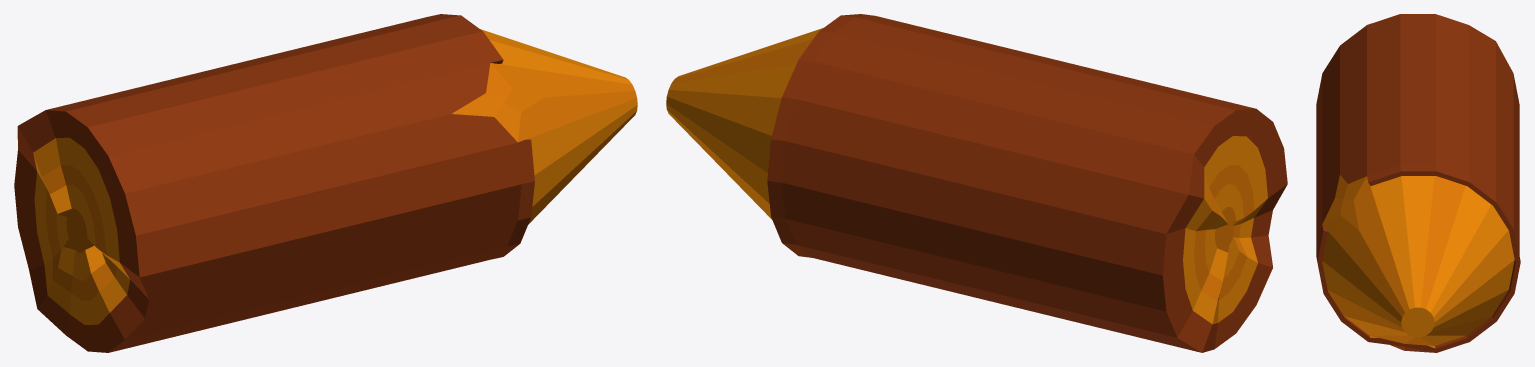
Rendered from Broken log_1.fbx.
3 views of the same model, side by side, from view 1: azimuth 30°, elevation 25°; view 2: azimuth 150°, elevation 25°; view 3: azimuth 270°, elevation 25° (orthographic). The views are drawn at different scales.
Visible parts, largest first — view 1: Circle.016; view 2: Circle.016; view 3: Circle.016.
Part boxes in pixels (x1=…): Circle.016: x1=14, y1=14, x2=637, y2=352; Circle.016: x1=666, y1=14, x2=1287, y2=352; Circle.016: x1=1316, y1=14, x2=1520, y2=352.
Bounding box in the file's own units: 66.1 × 25.3 × 25.71.
